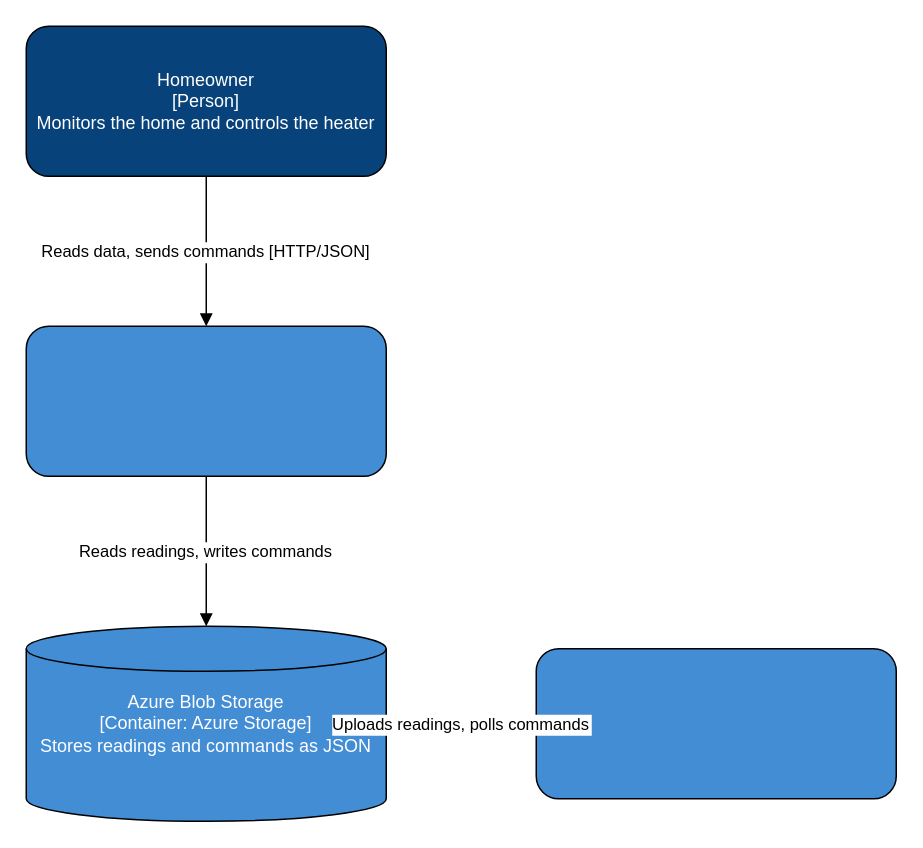
The diagram is 923 pixels wide and 848 high, and some of its shapes have lost their labels. The shapes that lost their labels are listed below. From the top down, each one's centre as x and y in pixels, then its label:
At (x=205, y=400): "Backend API [Container: Python, Flask] Business logic, exposes REST API".
At (x=715, y=723): "Device Simulator [Container: Python] Simulates the smart home device".
